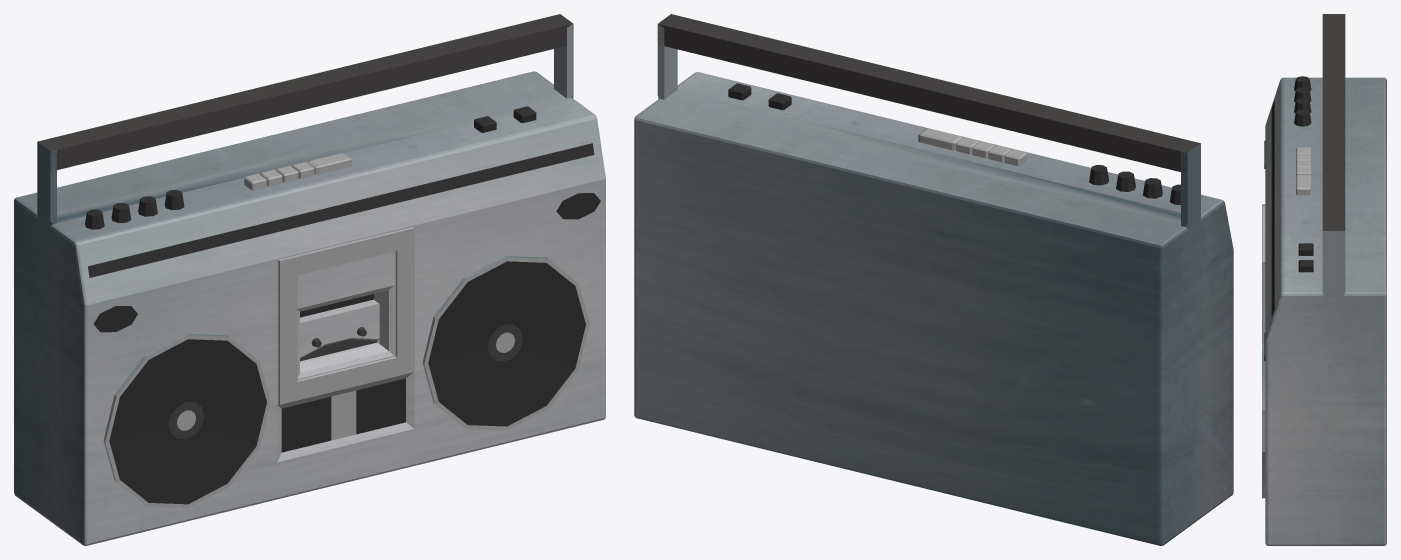
The model's file is BOOMBOX.fbx.
The picture shows the model from 3 angles, left to right: view 1: azimuth 30°, elevation 25°; view 2: azimuth 150°, elevation 25°; view 3: azimuth 270°, elevation 25°; orthographic projection. The views are drawn at different scales.
Visible parts, largest first — view 1: BOOMBOX; view 2: BOOMBOX; view 3: BOOMBOX.
Boxes of the visible parts, box(x1,y1,x2,y2) form: BOOMBOX: box(14, 14, 605, 545); BOOMBOX: box(634, 14, 1233, 545); BOOMBOX: box(1262, 14, 1386, 545).
Bounding box in the file's own units: 43.27 × 29.4 × 10.52.
